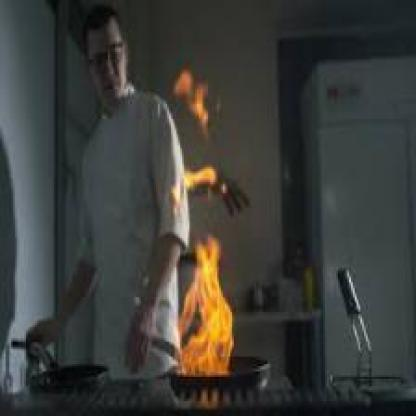Fire: (179, 244, 233, 372)
